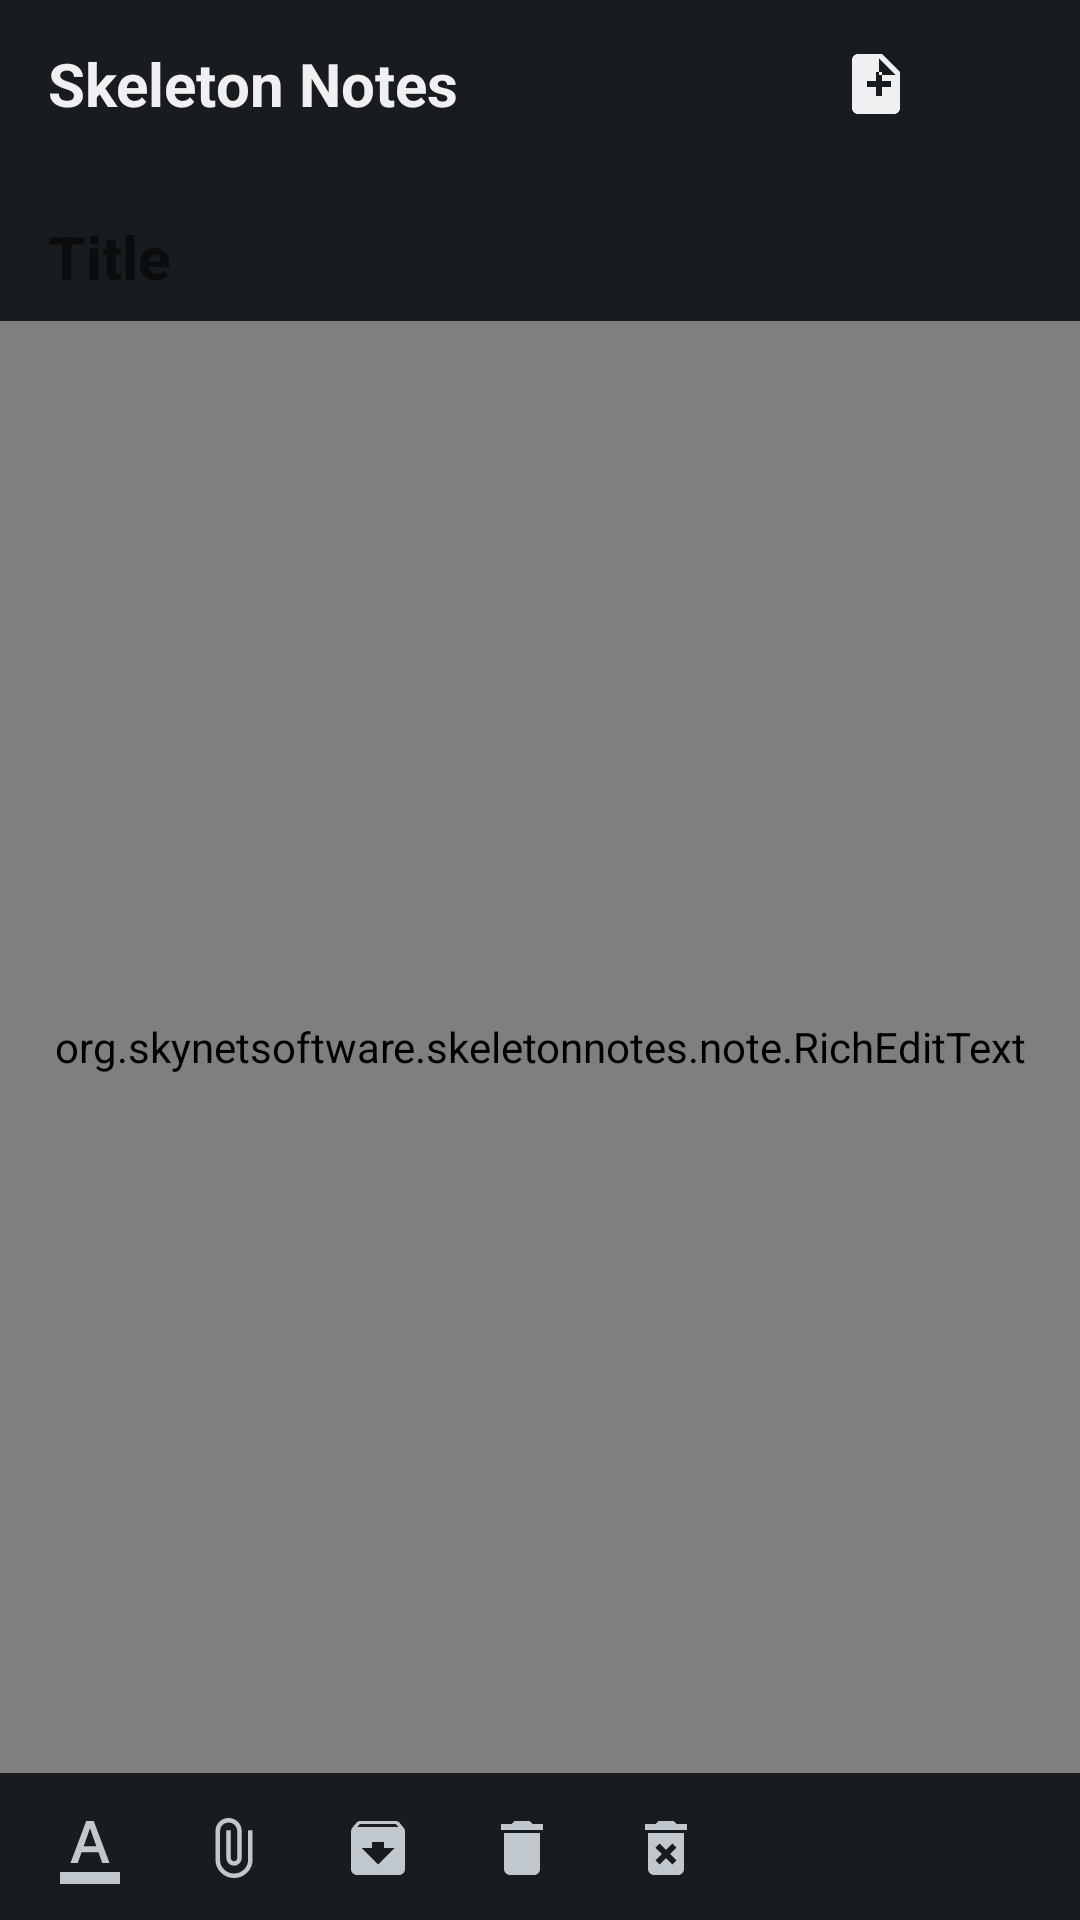

Screen size 1080 × 1920. Icon name, then its box in pixels as detection(x1, y1, x2, y2):
Add note: detection(852, 54, 900, 114)
Archive: detection(351, 1821, 405, 1875)
Attach file: detection(215, 1818, 253, 1878)
Delete permanently: detection(645, 1821, 687, 1875)
Formatting: detection(60, 1821, 120, 1884)
Move to trash: detection(501, 1821, 543, 1875)
